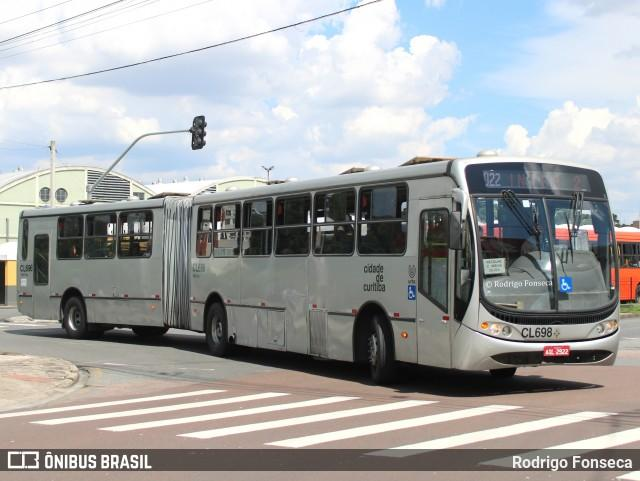INTER2: (507, 171, 585, 193)
